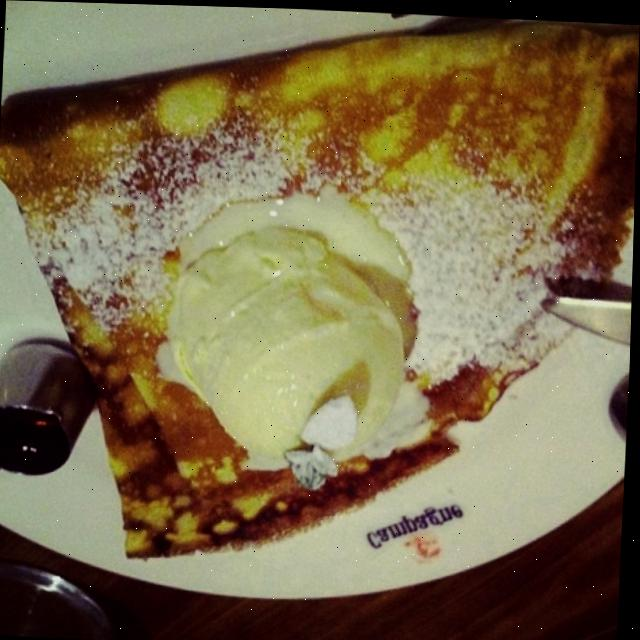蛋糕甜品: (1, 4, 640, 600)
